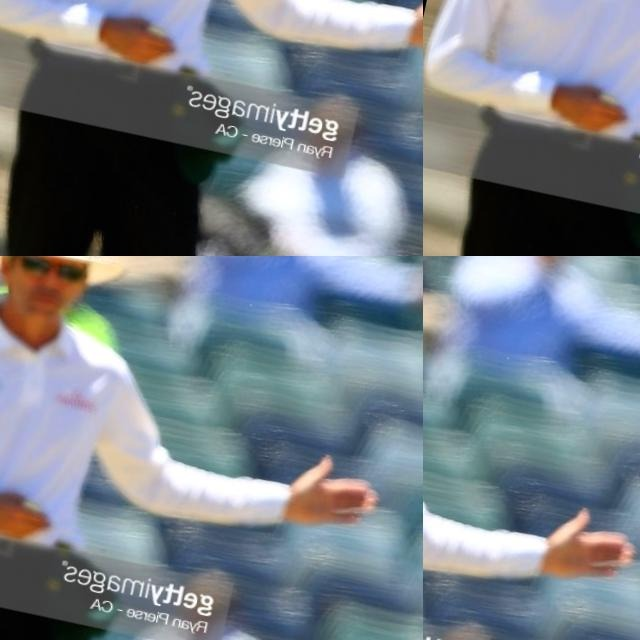No_Ball: (0, 256, 423, 640)
Out: (553, 0, 640, 105)
Wide: (0, 0, 423, 256), (423, 256, 640, 603)
